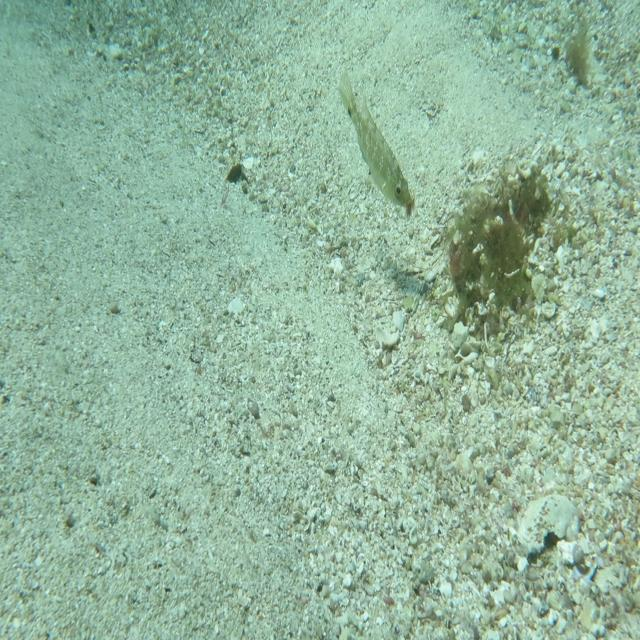AM: (337, 66, 412, 212)
core_nest: (514, 173, 549, 208)
nest: (446, 165, 562, 351)
nest_material: (406, 195, 419, 222)
vegetation: (564, 15, 598, 96), (224, 160, 245, 186)
